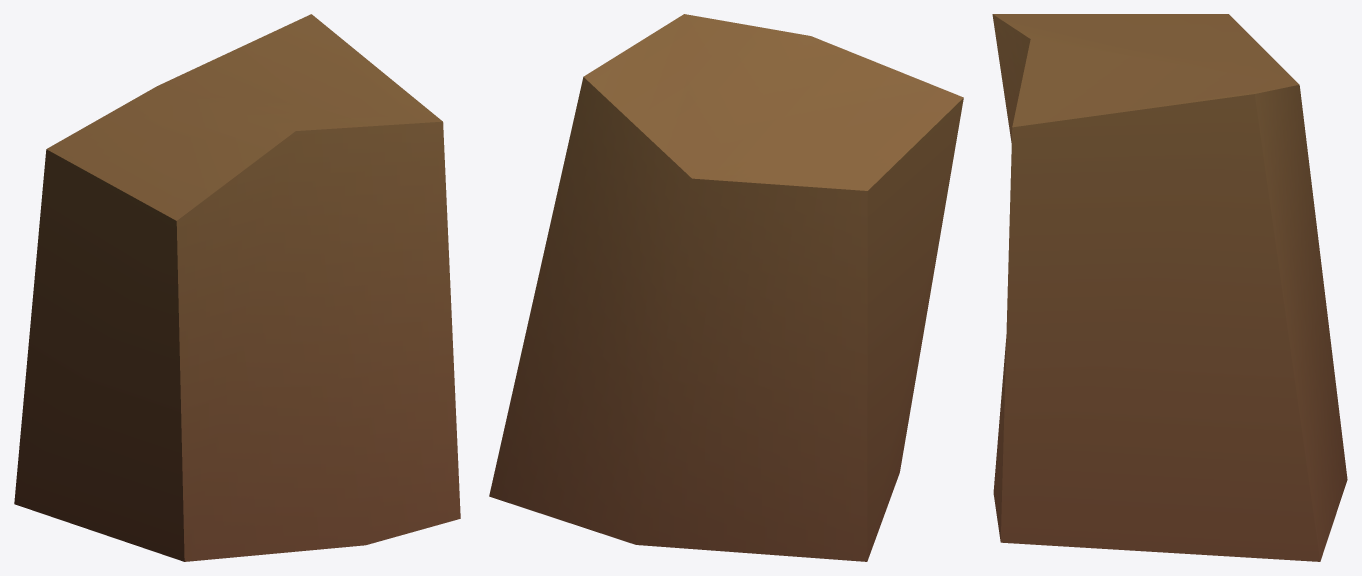
File: Cliff001.glb
3 renders of one model, left to right at view 1: azimuth 30°, elevation 25°; view 2: azimuth 150°, elevation 25°; view 3: azimuth 270°, elevation 25°, orthographic. The views are drawn at different scales.
Visible parts, largest first — view 1: Cliff001; view 2: Cliff001; view 3: Cliff001.
Boxes of the visible parts, x1,y1,x2,y2 form: Cliff001: [14, 14, 460, 561]; Cliff001: [489, 14, 963, 561]; Cliff001: [992, 14, 1347, 561].
Size of the model in its own units: 619 by 695 by 514.
Materials: 1 (1 with a texture image).
